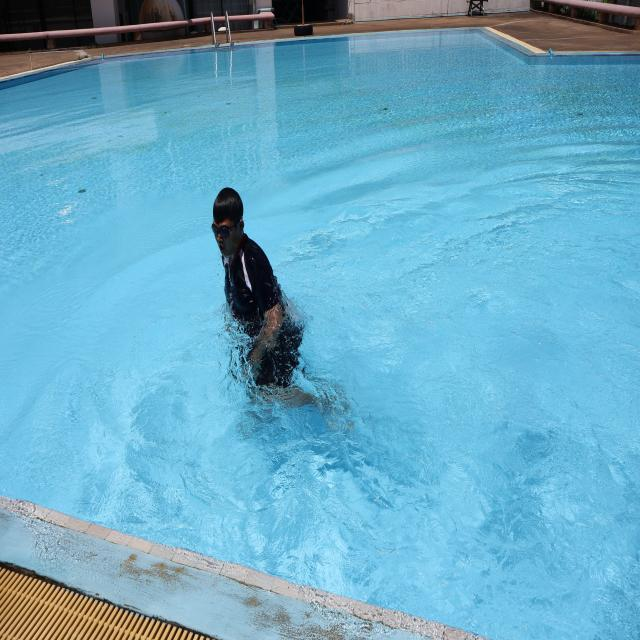Swimming: (211, 187, 346, 416)
